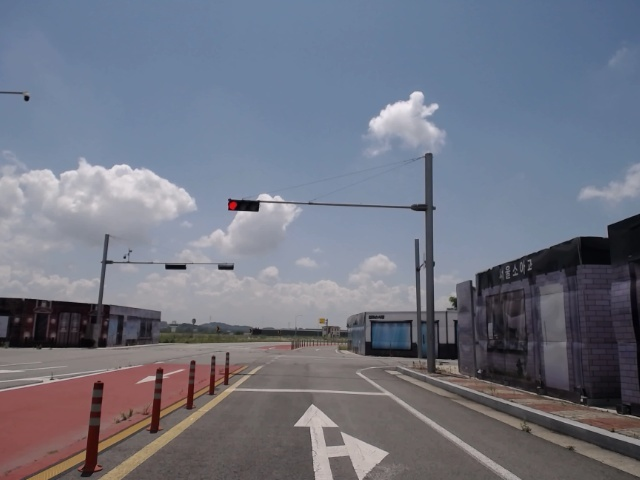red_3: (229, 199, 260, 211)
